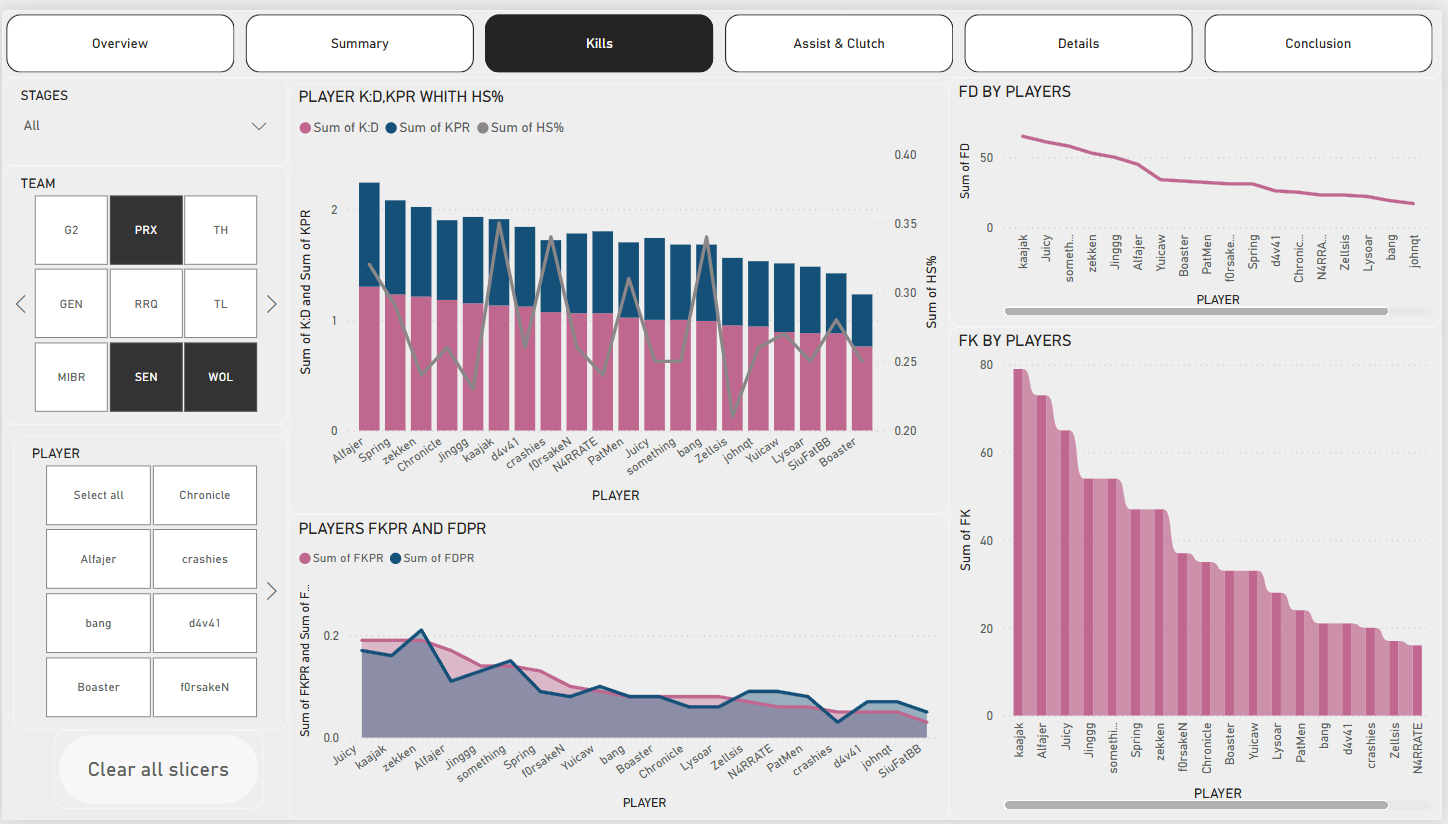

Layout of this report page (visuals, bound fields, positions):
{"tool":"powerbi","page":{"name":"Kills","canvas":[1280,720],"ordinal":2},"visuals":[{"type":"slicer","fields":{"Values":["Sheet2.TEAM"]},"box":[0,138.6,254.3,230],"z":0},{"type":"slicer","fields":{"Values":["Sheet2.PLAYER"]},"box":[0,368.6,254.3,261.4],"z":1000},{"type":"slicer","fields":{"Values":["Sheet2.STAGES"]},"box":[0,60,254.3,78.6],"z":2000},{"type":"pageNavigator","box":[0,0,1280,60],"z":3000},{"type":"actionButton","box":[47.1,640,185.7,70],"z":4000},{"type":"lineStackedColumnComboChart","title":"PLAYER K:D,KPR WHITH HS%","fields":{"Category":["Sheet2.PLAYER"],"Y":["Sheet2.K:D","Sheet2.KPR"],"Y2":["Sheet2.HS%"]},"box":[254.3,65.7,587.1,382.9],"z":5000},{"type":"areaChart","title":"PLAYERS FKPR AND FDPR","fields":{"Category":["Sheet2.PLAYER"],"Y":["Sheet2.FKPR","Sheet2.FDPR"]},"box":[254.3,448.6,587.1,271.4],"z":6000},{"type":"lineChart","title":"FD BY PLAYERS","fields":{"Category":["Sheet2.PLAYER"],"Y":["Sheet2.FD"]},"box":[841.4,60,438.6,221.4],"z":7000},{"type":"ribbonChart","title":"FK BY PLAYERS","fields":{"Y":["Sheet2.FK"],"Category":["Sheet2.PLAYER"]},"box":[841.4,281.4,438.6,438.6],"z":8000},{"type":"slicer","fields":{"Values":["Sheet2.PLAYER"]},"box":[10,378.6,244.3,261.4],"z":9000}]}

Visuals, with their boxes in screenshot pixels (x1, y1, x2, y2), scaled from the page's 1280x720 canvas onto the 1448x824 screenshot:
slicer - Sheet2.TEAM: 0 159 288 422
slicer - Sheet2.PLAYER: 0 422 288 721
slicer - Sheet2.STAGES: 0 69 288 159
pageNavigator: 0 0 1447 69
actionButton: 53 732 263 813
"PLAYER K:D,KPR WHITH HS%" lineStackedColumnComboChart: 288 75 952 513
"PLAYERS FKPR AND FDPR" areaChart: 288 513 952 823
"FD BY PLAYERS" lineChart: 952 69 1447 322
"FK BY PLAYERS" ribbonChart: 952 322 1447 823
slicer - Sheet2.PLAYER: 11 433 288 732
